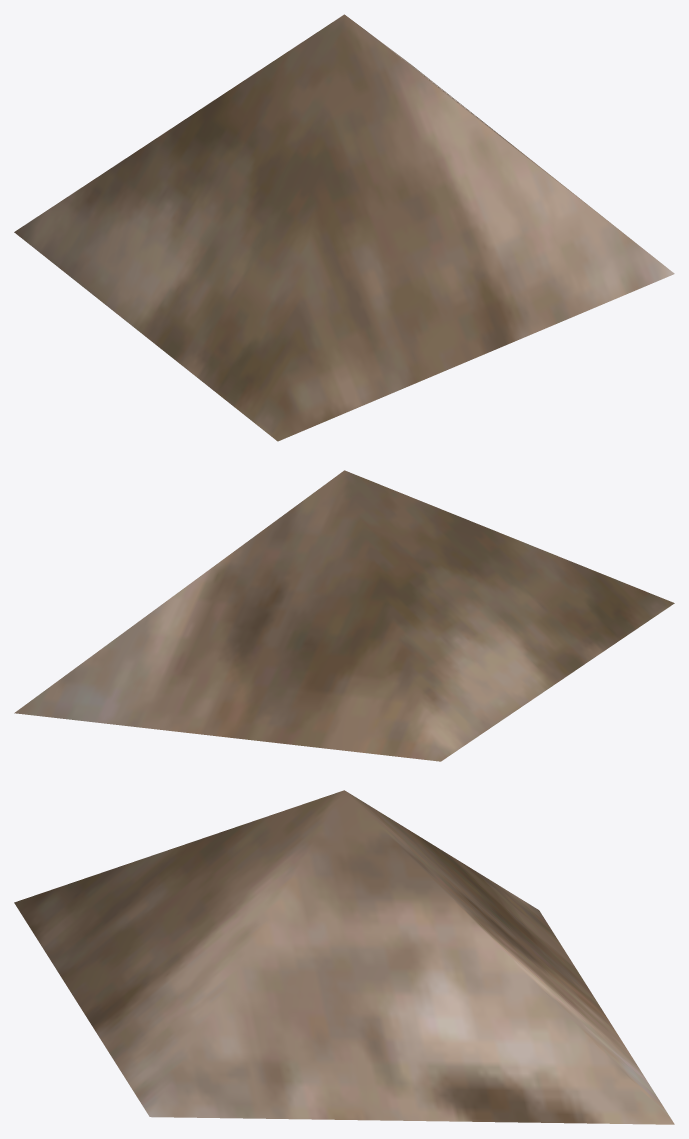
The model's file is OVERHILL_A_01_PLANE06.fbx.
The picture shows the model from 3 angles, top to bottom: view 1: azimuth 30°, elevation 25°; view 2: azimuth 150°, elevation 25°; view 3: azimuth 270°, elevation 25°; orthographic projection. The views are drawn at different scales.
Parts seen in each view (by area): view 1: OVERHILL_A_01_PLANE06; view 2: OVERHILL_A_01_PLANE06; view 3: OVERHILL_A_01_PLANE06.
Part boxes in pixels (box(x1,y1,x2,y2)): OVERHILL_A_01_PLANE06: box(14, 14, 674, 441); OVERHILL_A_01_PLANE06: box(14, 470, 674, 761); OVERHILL_A_01_PLANE06: box(14, 790, 674, 1124).
Size of the model in its own units: 1199 by 562 by 1508.
1 material, 1 textured.
